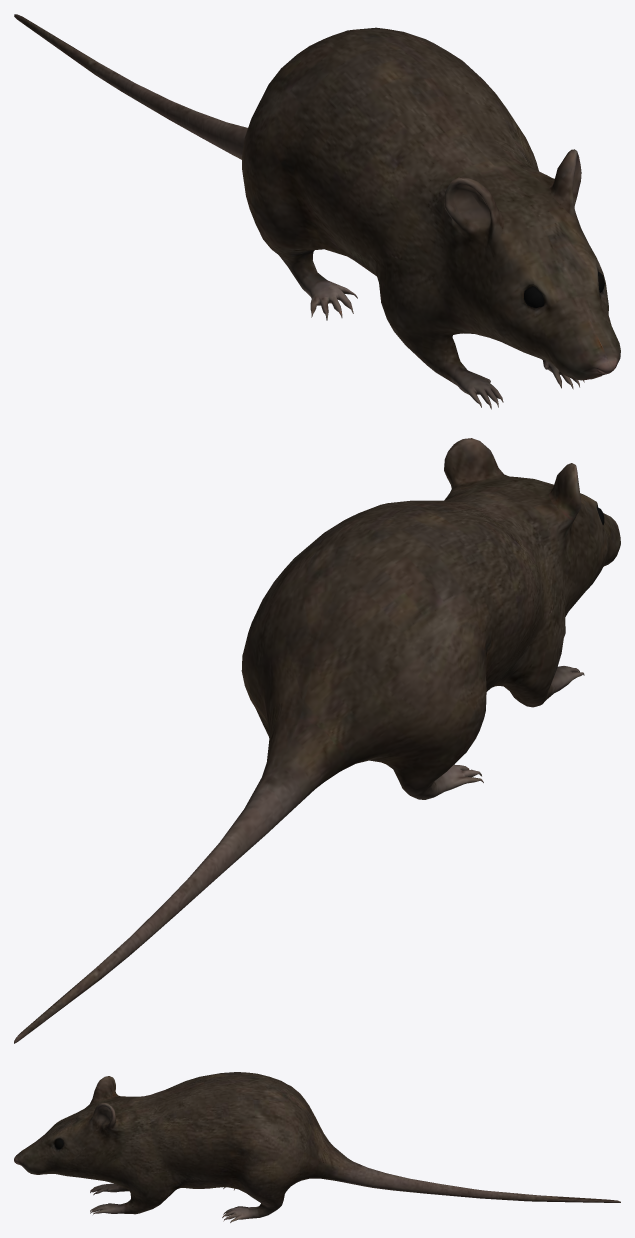
The model's file is x_rat.glb.
3 renders of one model, top to bottom at view 1: azimuth 30°, elevation 25°; view 2: azimuth 150°, elevation 25°; view 3: azimuth 270°, elevation 25°, orthographic. The views are drawn at different scales.
Size of the model in its own units: 0.0319 by 0.0337 by 0.1483.
1 material, 1 textured.
